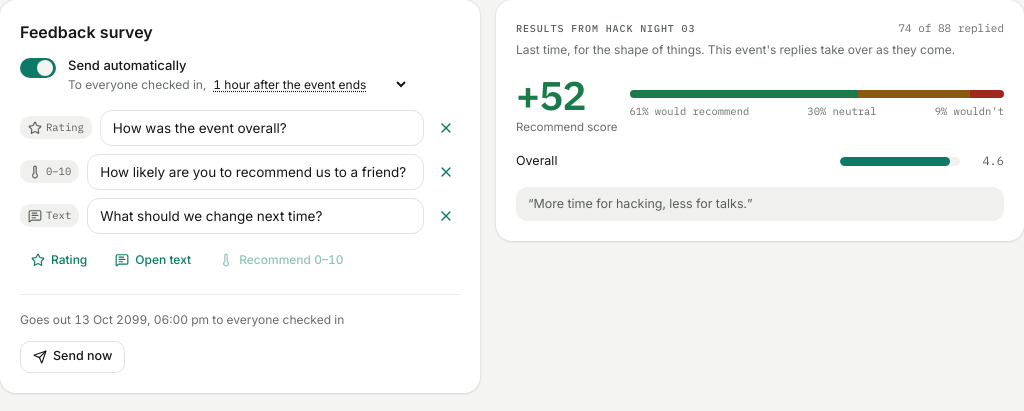
the feedback survey › sends it now after a second look, to everyone checked in
Click the button "Send now": (73, 356) [20,340,125,372]
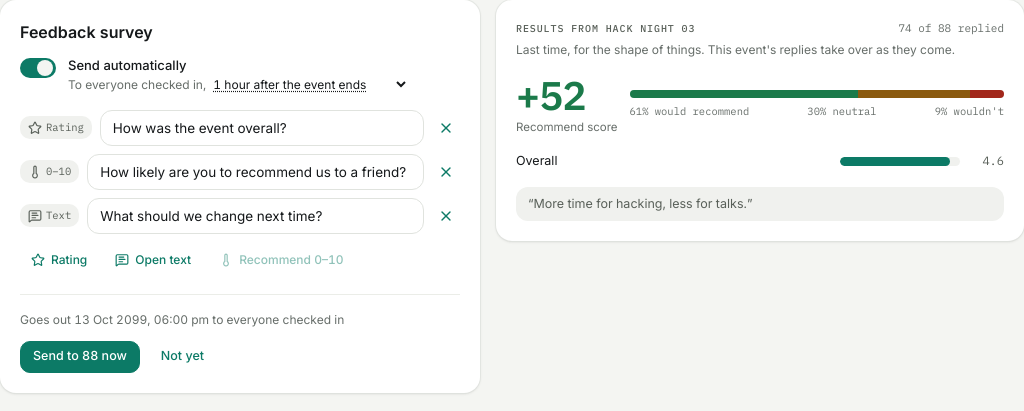
Click the button "Send to 88 now": (80, 356) [20,340,140,372]
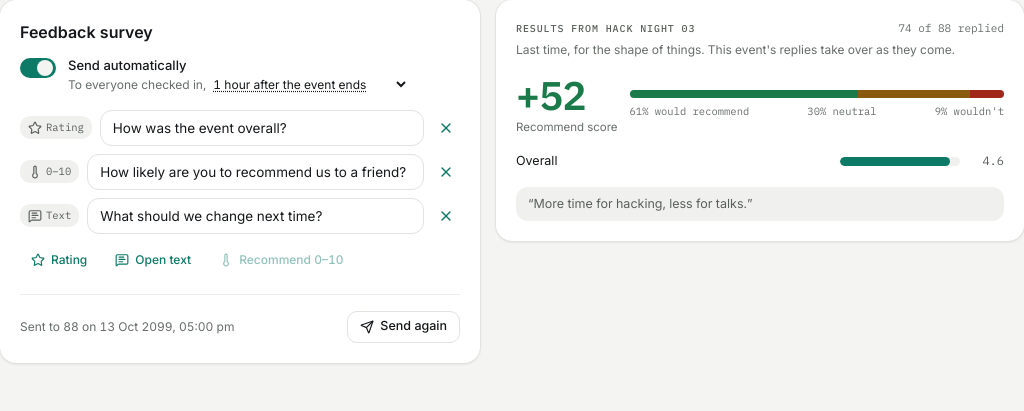
expect the button "Send again" is shown: met, box [347,310,460,342]
